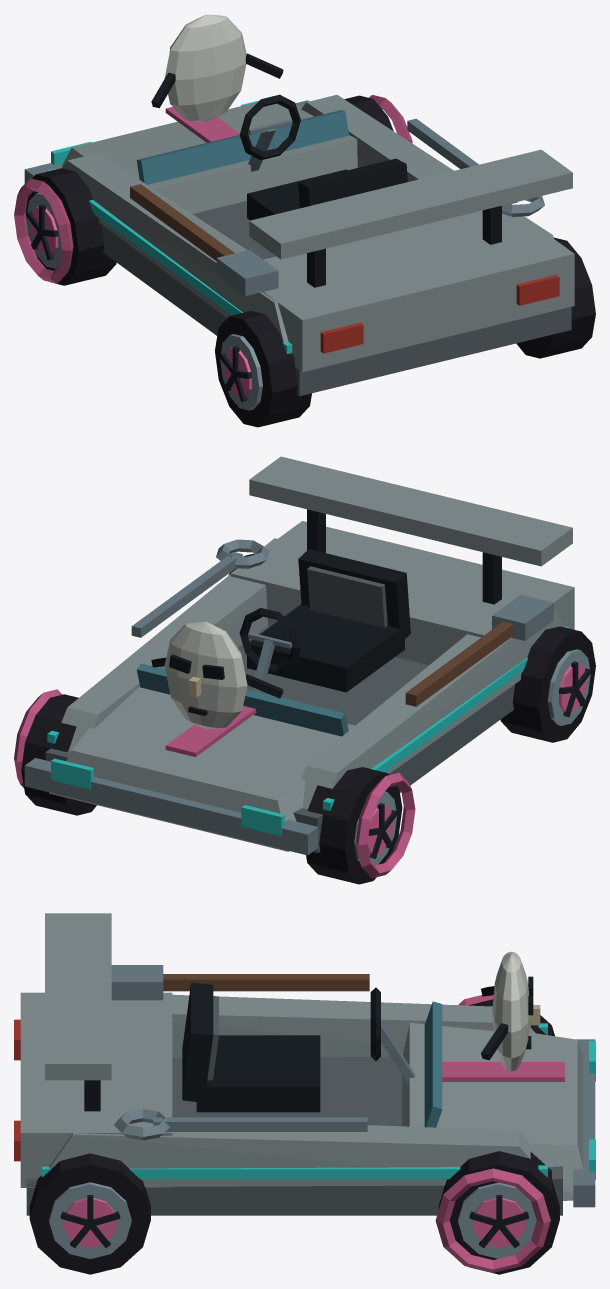
Rendered from kart.glb.
The picture shows the model from 3 angles, top to bottom: view 1: azimuth 30°, elevation 25°; view 2: azimuth 150°, elevation 25°; view 3: azimuth 270°, elevation 25°; orthographic projection. The views are drawn at different scales.
Visible parts, largest first — view 1: identity-sports-car-sports-car-road-car-body, wheel-rear-left, identity-sports-car-motif-mask, identity-sports-car-driver-cockpit, wheel-front-left, identity-sports-car-motif-tools, identity-sports-car-motif-neon, wheel-rear-right, wheel-front-right; view 2: identity-sports-car-sports-car-road-car-body, identity-sports-car-driver-cockpit, wheel-rear-left, identity-sports-car-motif-mask, identity-sports-car-motif-tools, wheel-front-left, identity-sports-car-motif-neon, wheel-front-right; view 3: identity-sports-car-sports-car-road-car-body, identity-sports-car-driver-cockpit, wheel-rear-right, identity-sports-car-motif-tools, identity-sports-car-motif-neon, wheel-front-right, identity-sports-car-motif-mask.
Part boxes in pixels (x1,y1,x2,y2): identity-sports-car-sports-car-road-car-body: (24,95,574,396); wheel-rear-left: (215,311,311,427); identity-sports-car-motif-mask: (151,14,283,121); identity-sports-car-driver-cockpit: (239,94,407,220); wheel-front-left: (25,168,116,285); identity-sports-car-motif-tools: (130,118,544,296); identity-sports-car-motif-neon: (14,95,412,353); wheel-rear-right: (516,237,595,358); wheel-front-right: (344,95,393,130); identity-sports-car-sports-car-road-car-body: (24,456,574,855); identity-sports-car-driver-cockpit: (239,549,410,692); wheel-rear-left: (500,626,595,742); identity-sports-car-motif-mask: (151,621,283,729); identity-sports-car-motif-tools: (131,539,553,706); wheel-front-left: (306,767,402,884); identity-sports-car-motif-neon: (14,626,569,878); wheel-front-right: (21,694,96,815); identity-sports-car-sports-car-road-car-body: (14,913,595,1215); identity-sports-car-driver-cockpit: (182,982,414,1112); wheel-rear-right: (29,1153,150,1274); identity-sports-car-motif-tools: (111,965,369,1140); identity-sports-car-motif-neon: (42,995,550,1272); wheel-front-right: (438,1151,559,1274); identity-sports-car-motif-mask: (481,951,540,1071).
Bounding box in the file's own units: 2.13 × 1.29 × 2.88.
